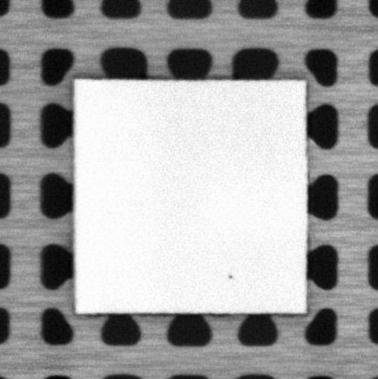DIE_INK: (226, 272, 235, 281)
